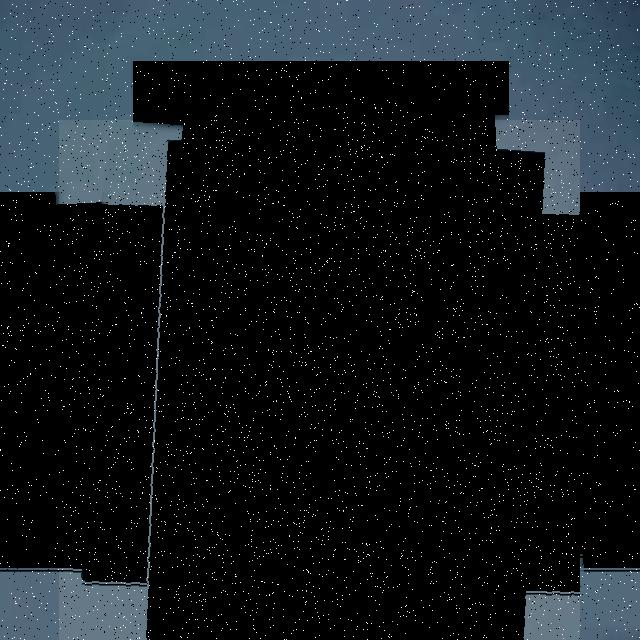dua ribu rupiah: (59, 120, 580, 640)
